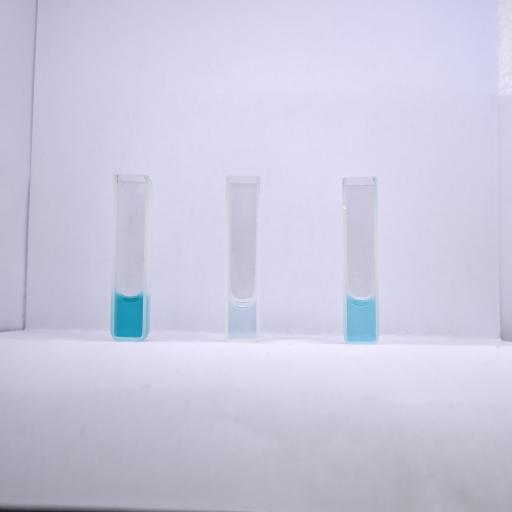cuvette: (109, 170, 151, 343), (340, 175, 382, 347), (224, 174, 262, 344)
liquid: (347, 296, 376, 341), (115, 294, 142, 336), (229, 299, 256, 338)
